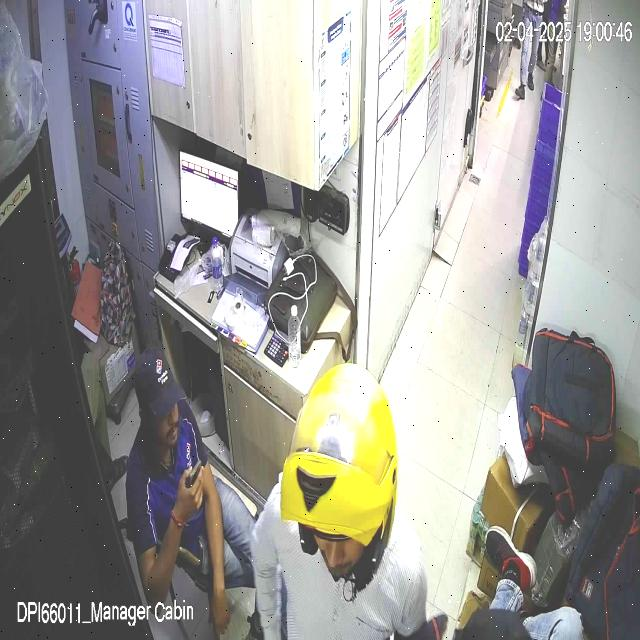helmet: (280, 361, 398, 589)
no_helmet: (132, 346, 186, 445)
